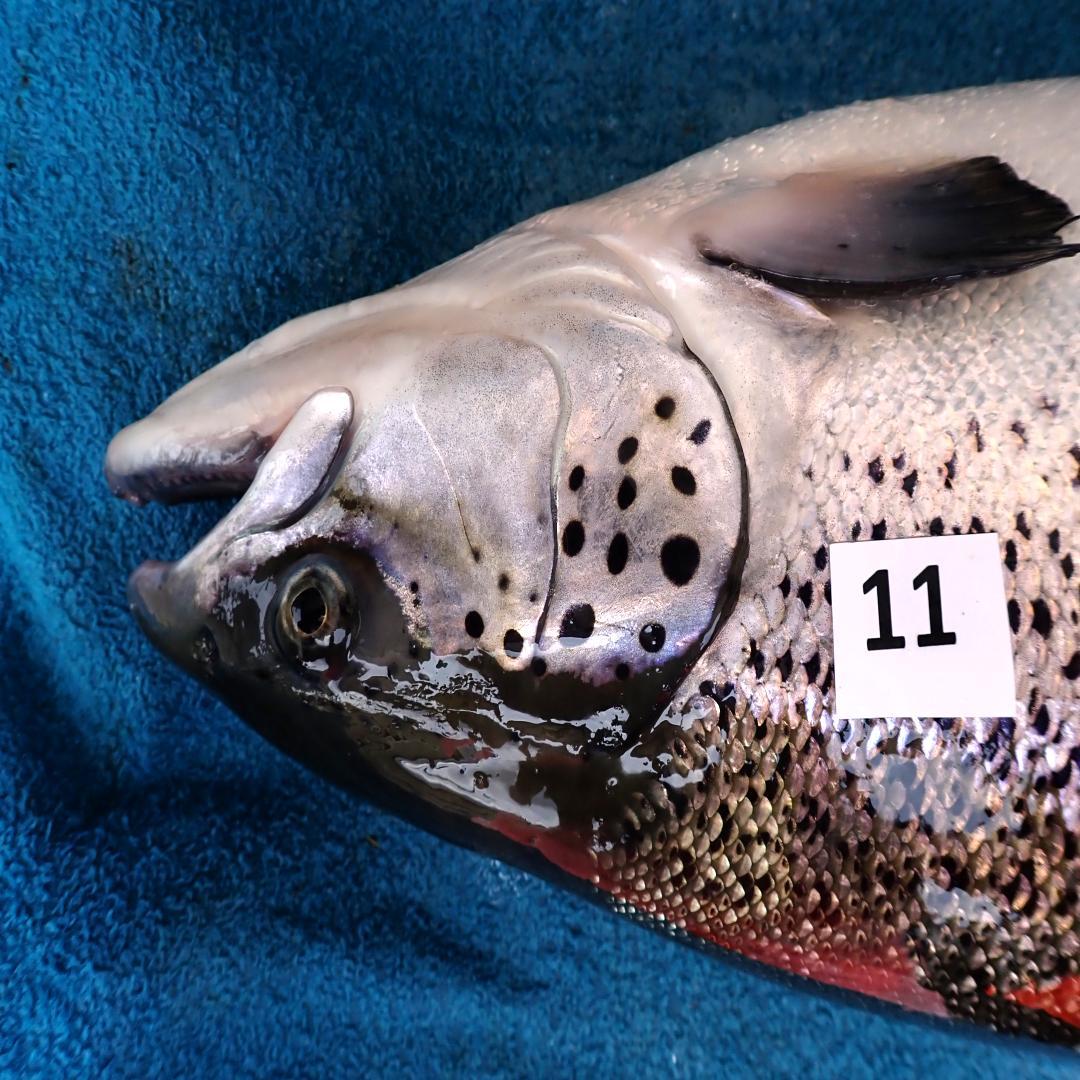roi: (355, 220, 751, 683)
